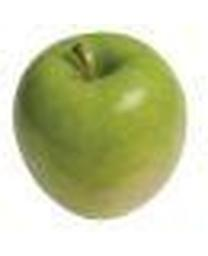apple: (11, 27, 190, 218)
